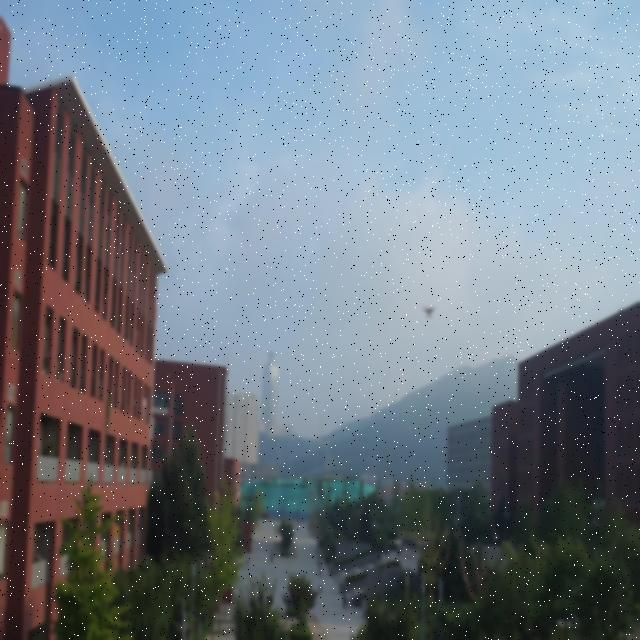UAV: (420, 306, 438, 320)
